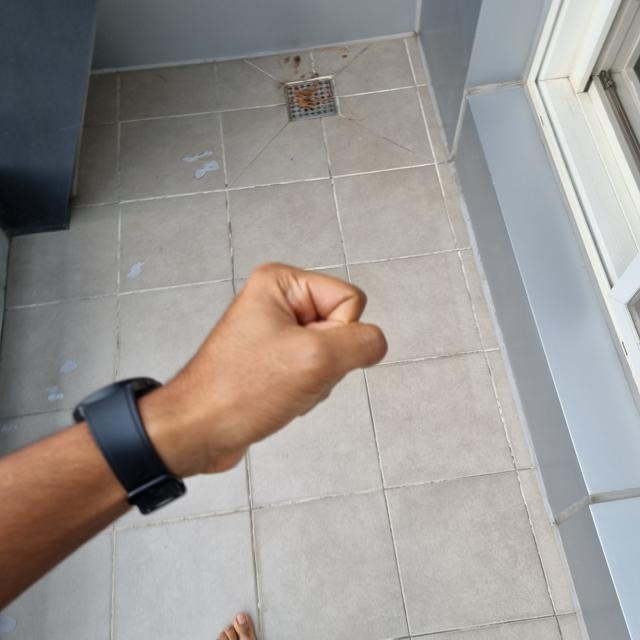Rock: (144, 263, 383, 471)
